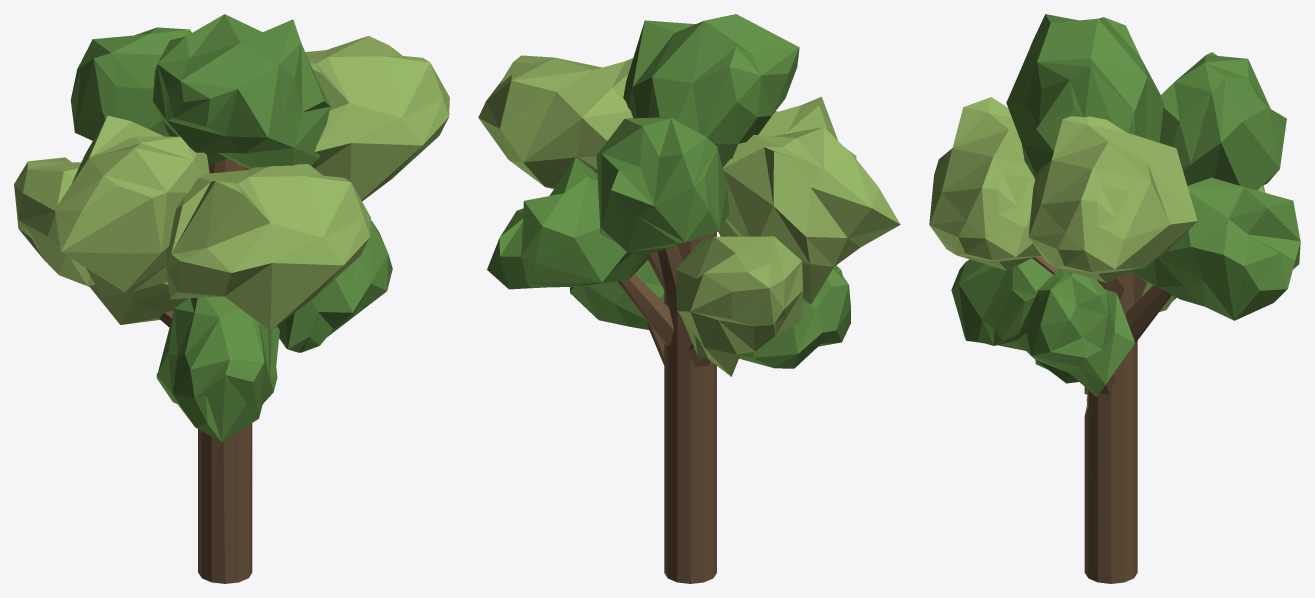
Rendered from arbol_iniciales.fbx.
3 views of the same model, side by side, from view 1: azimuth 30°, elevation 25°; view 2: azimuth 150°, elevation 25°; view 3: azimuth 270°, elevation 25° (orthographic). The views are drawn at different scales.
Visible parts, largest first — view 1: arbol_1; view 2: arbol_1; view 3: arbol_1.
Part boxes in pixels (left/top/right/bottom): arbol_1: left=14, top=14, right=449, bottom=583; arbol_1: left=478, top=14, right=900, bottom=583; arbol_1: left=929, top=14, right=1300, bottom=583.
Size of the model in its own units: 442 by 586 by 358.
